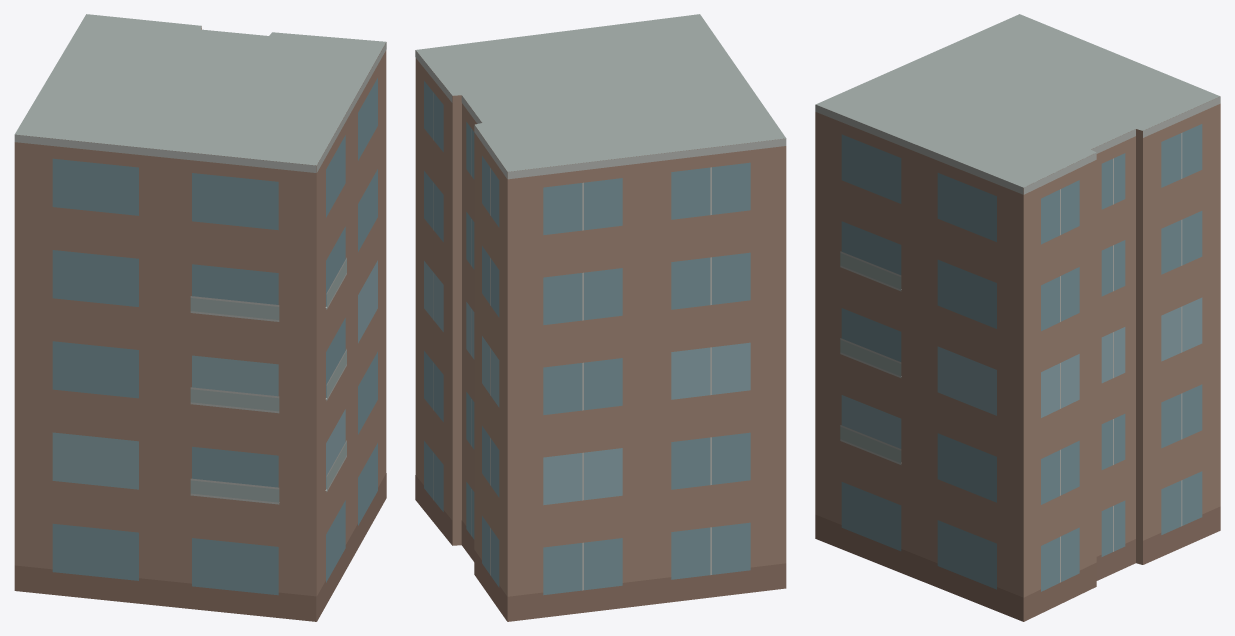
The model's file is survey-upis-32584716.glb.
The picture shows the model from 3 angles, left to right: view 1: azimuth 30°, elevation 25°; view 2: azimuth 150°, elevation 25°; view 3: azimuth 270°, elevation 25°; orthographic projection. The views are drawn at different scales.
Visible parts, largest first — view 1: survey-upis-32584716.tmp; view 2: survey-upis-32584716.tmp; view 3: survey-upis-32584716.tmp.
Part boxes in pixels (<box>): survey-upis-32584716.tmp: <box>14,14,386,621</box>; survey-upis-32584716.tmp: <box>415,14,786,621</box>; survey-upis-32584716.tmp: <box>815,14,1220,621</box>.
Bounding box in the file's own units: 12.57 × 14.65 × 12.39.
